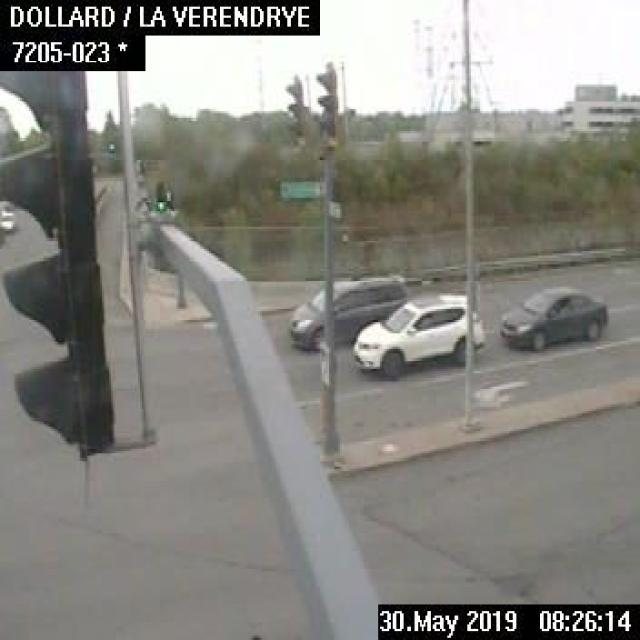vehicle: (355, 294, 484, 377), (285, 269, 409, 351), (498, 283, 609, 349), (0, 198, 15, 246)
